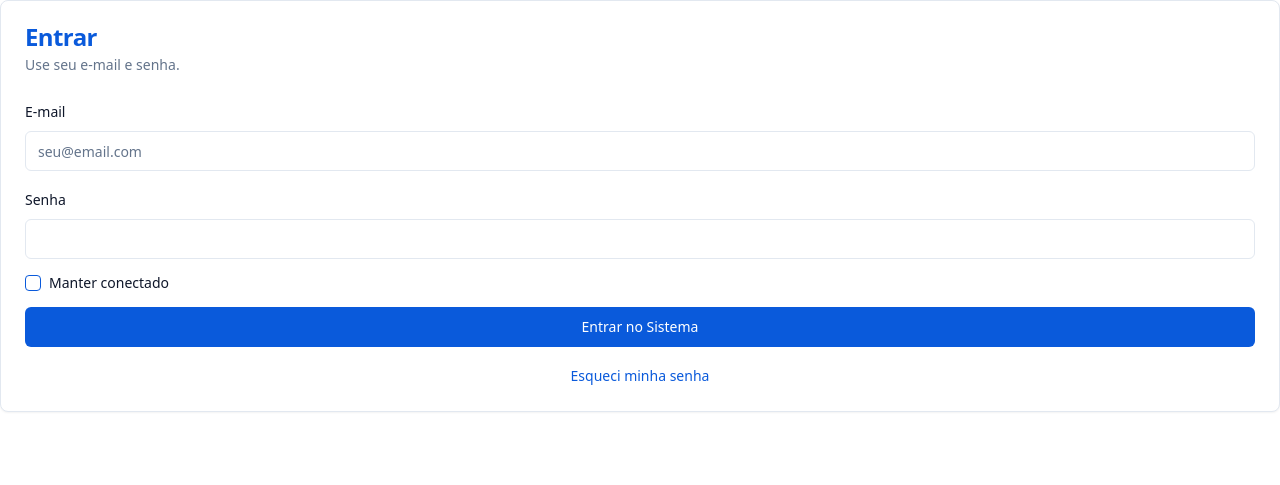
Test case: LoginForm › exibe erros do react-hook-form em submit vazio
This screenshot has width=1280, height=485.
Click the button "Entrar no Sistema": (640, 327) [25,307,1255,347]
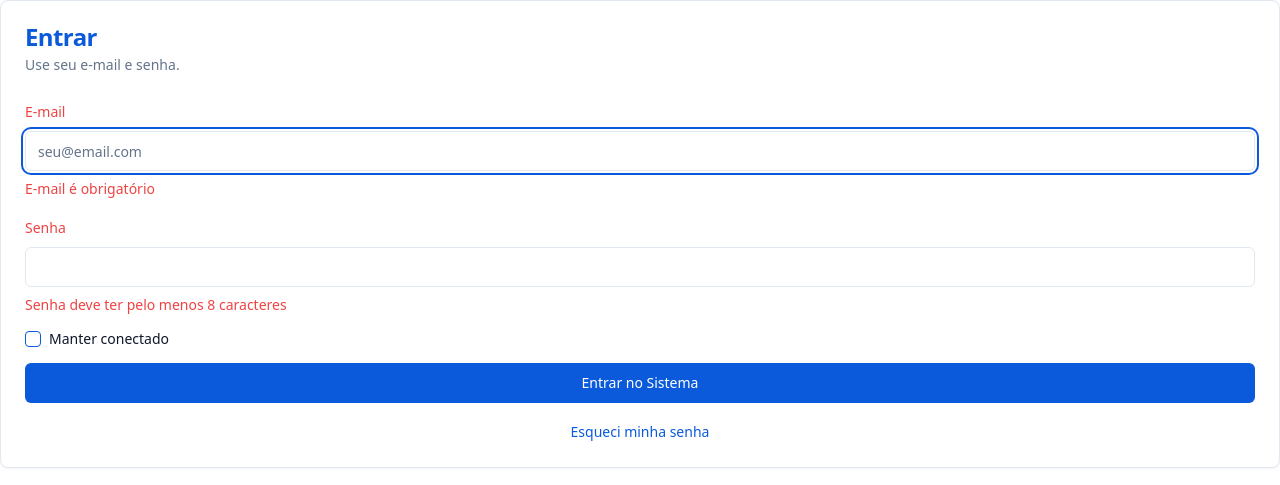
Expected: the text "E-mail é obrigatório" is shown, [25,179,155,198]
